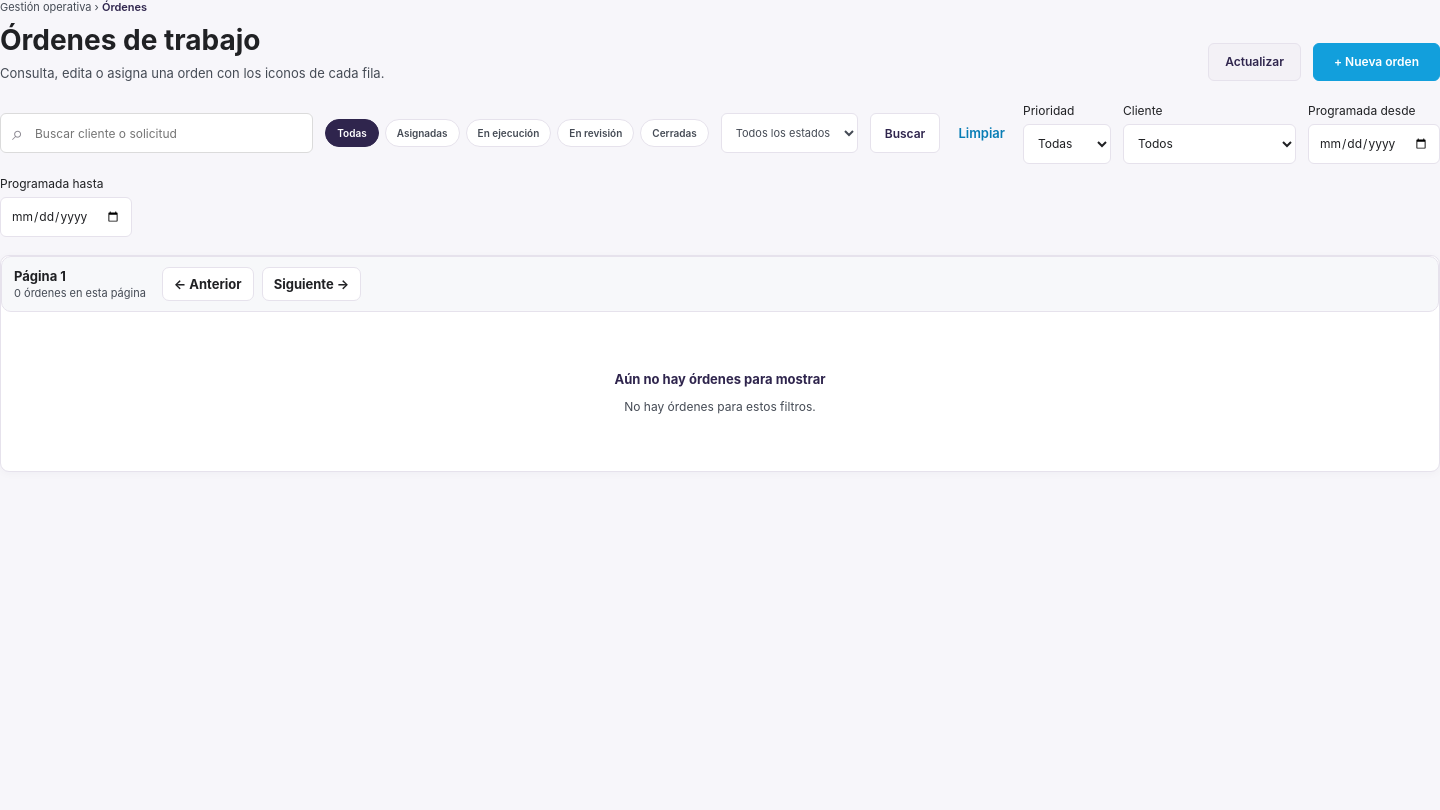
Cliente y ubicaciones del formulario de órdenes › deshabilita Ubicación hasta elegir un cliente
Expected: the text "No hay órdenes para estos filtros." is shown, [614, 399, 826, 414]
Click the button "+ Nueva orden": [1376, 62] box [1313, 43, 1439, 81]
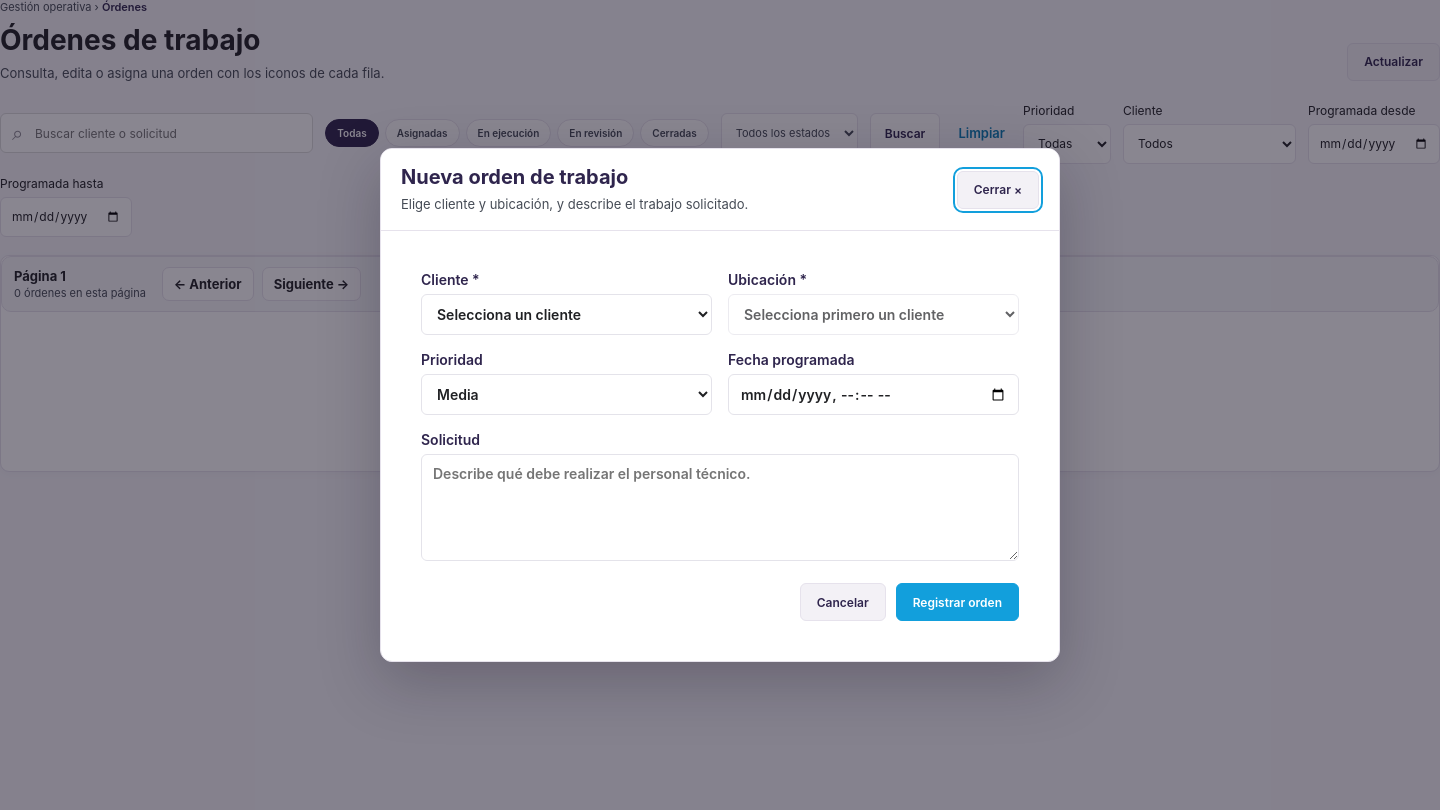
Now the dropdown labelled "Cliente" shows "Selecciona un cliente", box [421, 294, 712, 335]
Now the dropdown labelled "Ubicación" is disabled, box [728, 294, 1019, 335]
